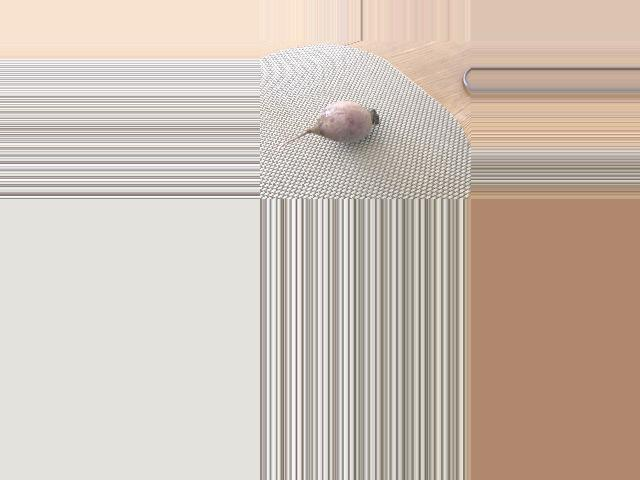beet: (277, 101, 380, 152)
